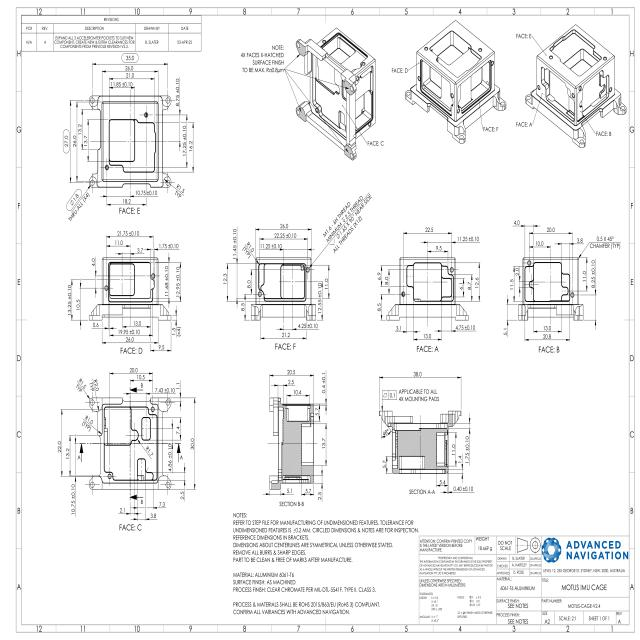dimension: (321, 192, 374, 254), (66, 189, 91, 222), (588, 235, 622, 250), (174, 77, 182, 109), (242, 240, 256, 258), (80, 413, 94, 431), (180, 124, 187, 157), (448, 484, 473, 493), (464, 434, 471, 466), (167, 443, 174, 474), (259, 242, 283, 251), (232, 226, 238, 261), (120, 52, 139, 63), (108, 80, 134, 88), (62, 128, 70, 154), (457, 235, 480, 244), (174, 182, 186, 199), (174, 265, 180, 299), (316, 281, 322, 315), (76, 376, 88, 393), (116, 229, 141, 237), (590, 259, 596, 292), (154, 386, 176, 395), (89, 376, 100, 394), (273, 232, 297, 240), (118, 328, 141, 336), (460, 323, 480, 332), (158, 242, 180, 250), (67, 283, 72, 317), (134, 189, 158, 196), (297, 322, 318, 330), (164, 265, 169, 298), (71, 485, 76, 516), (322, 370, 327, 394), (144, 445, 153, 458), (56, 439, 63, 455), (188, 139, 194, 156), (286, 486, 296, 496), (534, 239, 545, 248), (72, 134, 78, 150), (124, 336, 136, 344), (581, 269, 587, 285), (64, 447, 70, 462), (189, 438, 195, 453), (293, 388, 303, 397), (321, 436, 327, 451), (381, 427, 390, 437), (124, 64, 135, 72), (121, 197, 132, 205), (542, 332, 553, 340), (75, 298, 81, 312), (475, 276, 481, 290), (508, 278, 514, 292), (149, 511, 158, 520), (114, 239, 124, 247), (280, 222, 290, 230), (281, 331, 291, 339), (423, 332, 433, 340), (546, 226, 556, 234), (576, 236, 586, 244), (544, 324, 554, 332), (286, 368, 296, 376), (413, 370, 423, 378), (451, 442, 456, 458), (323, 278, 329, 291), (514, 266, 520, 279), (381, 458, 387, 471), (176, 326, 182, 338), (158, 343, 166, 352), (240, 301, 246, 313), (377, 271, 383, 283), (383, 275, 389, 287), (459, 282, 465, 294), (137, 374, 146, 382), (179, 490, 185, 502), (118, 506, 126, 515), (314, 407, 320, 419), (305, 487, 313, 496), (439, 479, 448, 487), (125, 72, 135, 79), (78, 123, 83, 137), (132, 320, 142, 327), (223, 272, 228, 286), (424, 226, 434, 233), (176, 424, 181, 438), (91, 256, 96, 269), (467, 278, 472, 291), (377, 301, 382, 314), (435, 244, 443, 252), (395, 324, 403, 332), (159, 500, 167, 508), (288, 378, 296, 386), (136, 247, 145, 254), (129, 367, 138, 374), (84, 134, 88, 149), (247, 279, 252, 291), (503, 327, 508, 339), (317, 490, 322, 502), (92, 321, 99, 329), (513, 218, 520, 226), (174, 381, 180, 390), (171, 326, 176, 336), (456, 455, 462, 463)
